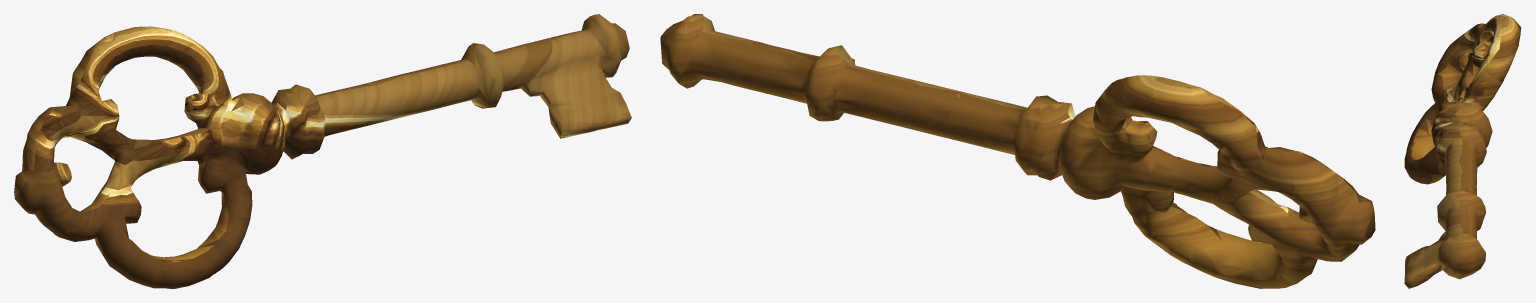
Rendered from asset_gold-key.glb.
3 views of the same model, side by side, from view 1: azimuth 30°, elevation 25°; view 2: azimuth 150°, elevation 25°; view 3: azimuth 270°, elevation 25° (orthographic). The views are drawn at different scales.
Visible parts, largest first — view 1: geometry_0; view 2: geometry_0; view 3: geometry_0.
Part boxes in pixels (bbox=[...]): geometry_0: bbox=[14, 14, 631, 288]; geometry_0: bbox=[660, 14, 1375, 288]; geometry_0: bbox=[1404, 14, 1521, 288].
Bounding box in the file's own units: 0.7419 × 0.25 × 0.1683.
1 material, 1 textured.
